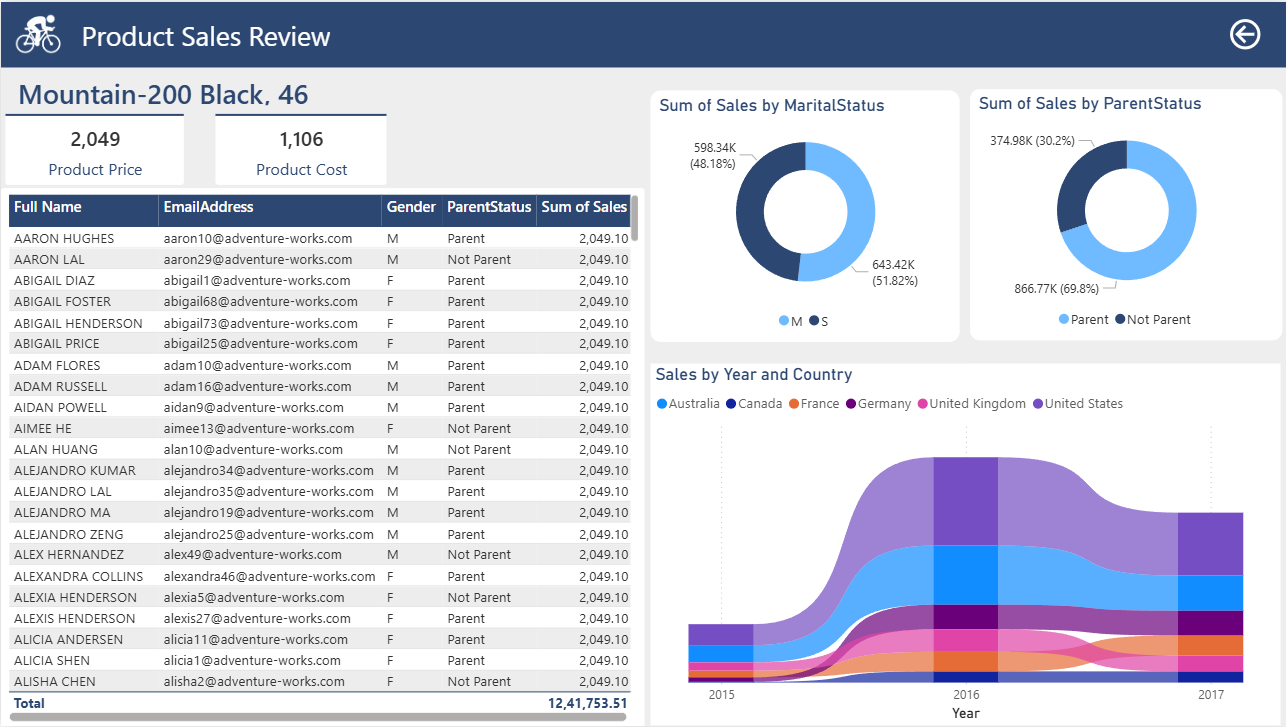

What the dashboard file says about the page in this screenshot:
{"tool":"powerbi","page":{"name":"Product Sales Dashboard","canvas":[1280,720],"ordinal":1},"visuals":[{"type":"shape","title":"Report Title","box":[0,0,1279.5,65.1],"z":0},{"type":"image","title":"Logo","box":[0,0,74.4,65.6],"z":1},{"type":"card","fields":{"Values":["Min(Products.ProductPrice)"]},"box":[5,111.9,177.5,70.1],"z":2},{"type":"card","fields":{"Values":["Min(Products.ProductCost)"]},"box":[213.8,111.9,170.1,70.1],"z":3},{"type":"shape","box":[4.8,105.8,177.3,12.7],"z":4},{"type":"shape","box":[213.9,105.8,170,12.7],"z":5},{"type":"cardVisual","fields":{"Data":["Min(Products.ProductName)"]},"box":[0,66,384,42],"z":6},{"type":"tableEx","fields":{"Values":["Customers Table.Full Name","Customers Table.EmailAddress","Customers Table.Gender","Customers Table.ParentStatus","Sum(FinaL Sales.Sales)"]},"box":[0,184.6,640,535.8],"z":7},{"type":"actionButton","box":[1217.3,11.9,62.7,40.3],"z":8},{"type":"ribbonChart","title":"Sales by Year and Country","fields":{"Y":["Measure Table.TotalSales"],"Series":["Territories.Country"],"Category":["DateTable.Date.Variation.Date Hierarchy.Year","DateTable.Date.Variation.Date Hierarchy.Quarter","DateTable.Date.Variation.Date Hierarchy.Month","DateTable.Date.Variation.Date Hierarchy.Day"]},"box":[646.7,360,626.7,360],"z":9},{"type":"donutChart","fields":{"Y":["Sum(FinaL Sales.Sales)"],"Category":["Customers Table.MaritalStatus"]},"box":[646.7,88.7,307.3,250],"z":10},{"type":"donutChart","fields":{"Category":["Customers Table.ParentStatus"],"Y":["Sum(FinaL Sales.Sales)"]},"box":[963.3,86.7,310.7,250],"z":11}]}

Visuals, with their boxes in screenshot pixels (x1, y1, x2, y2), scaled from the page's 1280x720 canvas onto the 1286x727 screenshot:
"Report Title" shape: region(0, 0, 1285, 66)
"Logo" image: region(0, 0, 75, 66)
card - Min(Products.ProductPrice): region(5, 113, 183, 184)
card - Min(Products.ProductCost): region(215, 113, 386, 184)
shape: region(5, 107, 183, 120)
shape: region(215, 107, 386, 120)
cardVisual - Min(Products.ProductName): region(0, 67, 386, 109)
tableEx - Customers Table.Full Name x Customers Table.EmailAddress: region(0, 186, 643, 726)
actionButton: region(1223, 12, 1285, 53)
"Sales by Year and Country" ribbonChart: region(650, 364, 1279, 726)
donutChart - Sum(FinaL Sales.Sales) x Customers Table.MaritalStatus: region(650, 90, 958, 342)
donutChart - Customers Table.ParentStatus x Sum(FinaL Sales.Sales): region(968, 88, 1280, 340)
